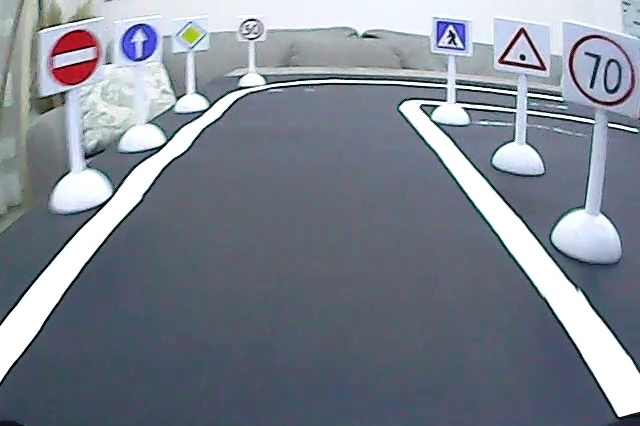do not enter: (40, 28, 107, 89)
green light: (495, 20, 552, 75)
pedestrian crossing: (432, 20, 469, 51)
speed limit 50: (240, 18, 262, 39)
speed limit 70: (563, 25, 638, 109)
